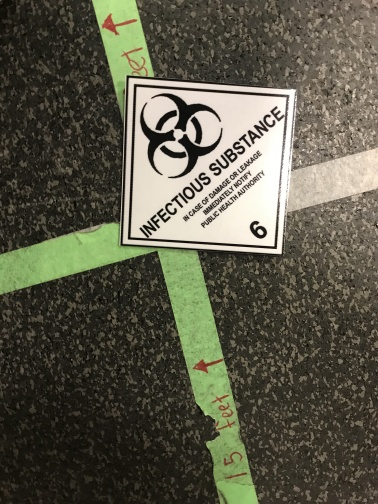InfectiousSubstance: (120, 76, 296, 254)
